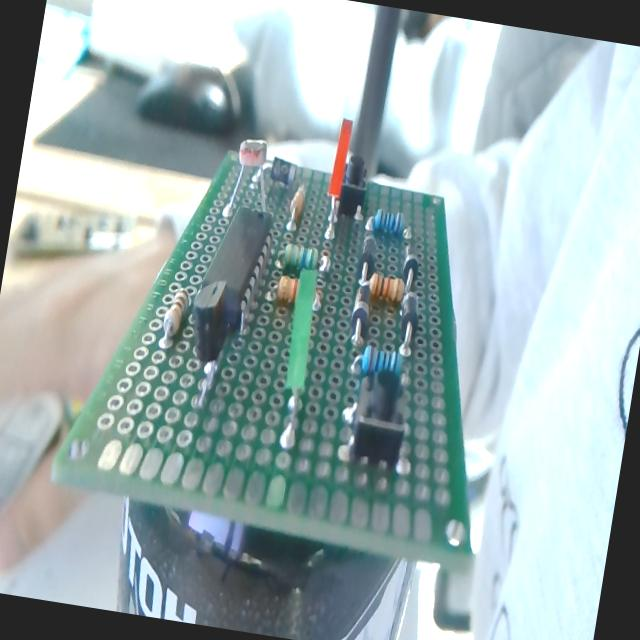IC: (190, 202, 273, 358)
cds: (226, 133, 278, 220)
diode: (394, 291, 422, 349), (348, 284, 373, 342), (268, 154, 301, 192), (356, 235, 380, 282), (399, 253, 422, 291)
led: (271, 268, 325, 452), (322, 118, 355, 225)
resistor: (160, 286, 192, 345), (359, 342, 404, 380), (281, 181, 312, 232), (366, 272, 407, 304), (282, 242, 318, 272), (372, 208, 406, 236)
switch: (339, 368, 416, 475), (336, 152, 372, 220)
transistor: (177, 274, 240, 416)
